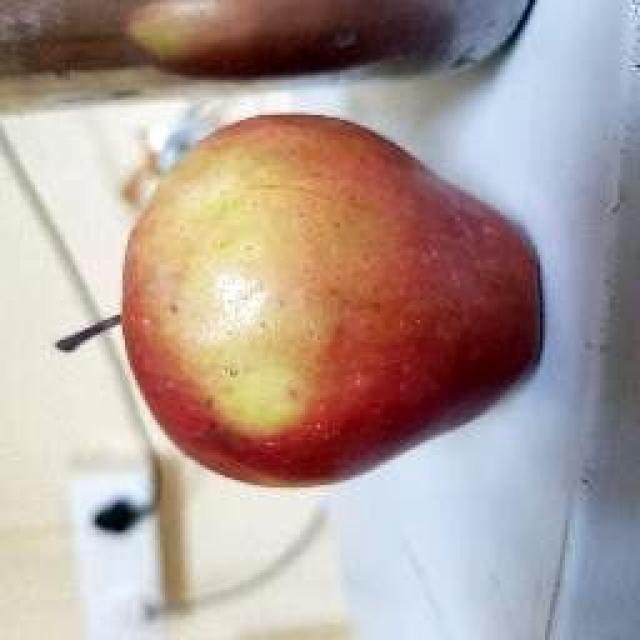Good_Apple: (120, 115, 542, 492)
